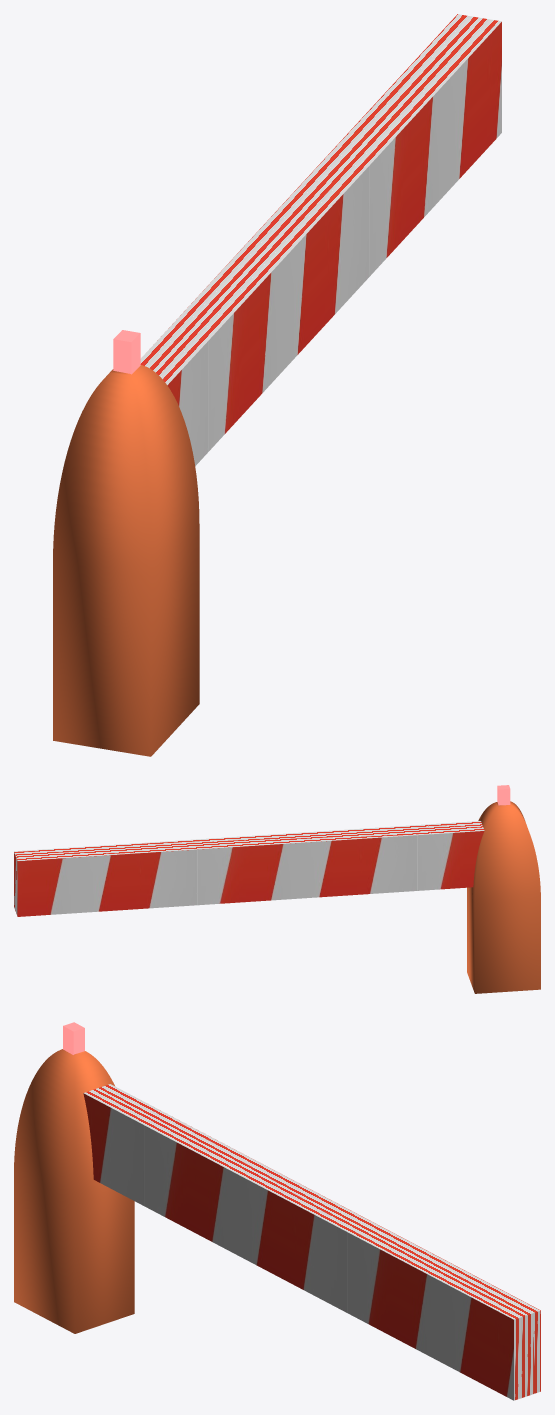
File: Barrier.fbx
3 views of the same model, one above another, from view 1: azimuth 30°, elevation 25°; view 2: azimuth 150°, elevation 25°; view 3: azimuth 270°, elevation 25° (orthographic). The views are drawn at different scales.
Parts seen in each view (by area): view 1: a, Cube.001, Cube; view 2: a, Cube.001, Cube; view 3: a, Cube.001, Cube.
Boxes of the visible parts, x1,y1,x2,y2 form: a: [140, 14, 501, 465]; Cube.001: [53, 365, 199, 756]; Cube: [113, 330, 140, 374]; a: [14, 821, 484, 916]; Cube.001: [467, 801, 540, 993]; Cube: [497, 785, 510, 805]; a: [83, 1084, 540, 1400]; Cube.001: [14, 1049, 134, 1333]; Cube: [63, 1022, 84, 1054].
Bounding box in the file's own units: 194 × 95.36 × 162.
